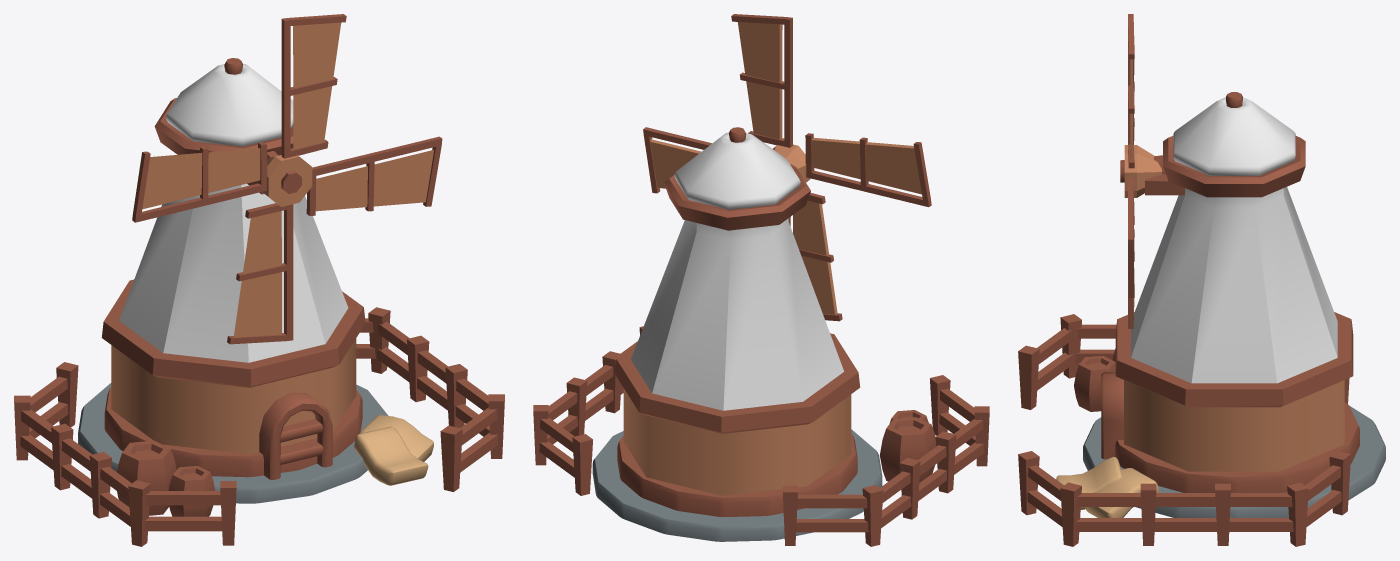
The model's file is mill_snow.gltf.glb.
3 renders of one model, left to right at view 1: azimuth 30°, elevation 25°; view 2: azimuth 150°, elevation 25°; view 3: azimuth 270°, elevation 25°, orthographic. The views are drawn at different scales.
Visible parts, largest first — view 1: mill_snow, mill_blades_snow; view 2: mill_snow, mill_blades_snow; view 3: mill_snow, mill_blades_snow.
Part boxes in pixels (bbox=[...]): mill_snow: bbox=[14, 58, 504, 546]; mill_blades_snow: bbox=[132, 14, 442, 344]; mill_snow: bbox=[533, 127, 989, 546]; mill_blades_snow: bbox=[643, 14, 931, 321]; mill_snow: bbox=[1018, 92, 1385, 546]; mill_blades_snow: bbox=[1124, 14, 1161, 328].
Size of the model in its own units: 1.69 by 1.98 by 1.48.
